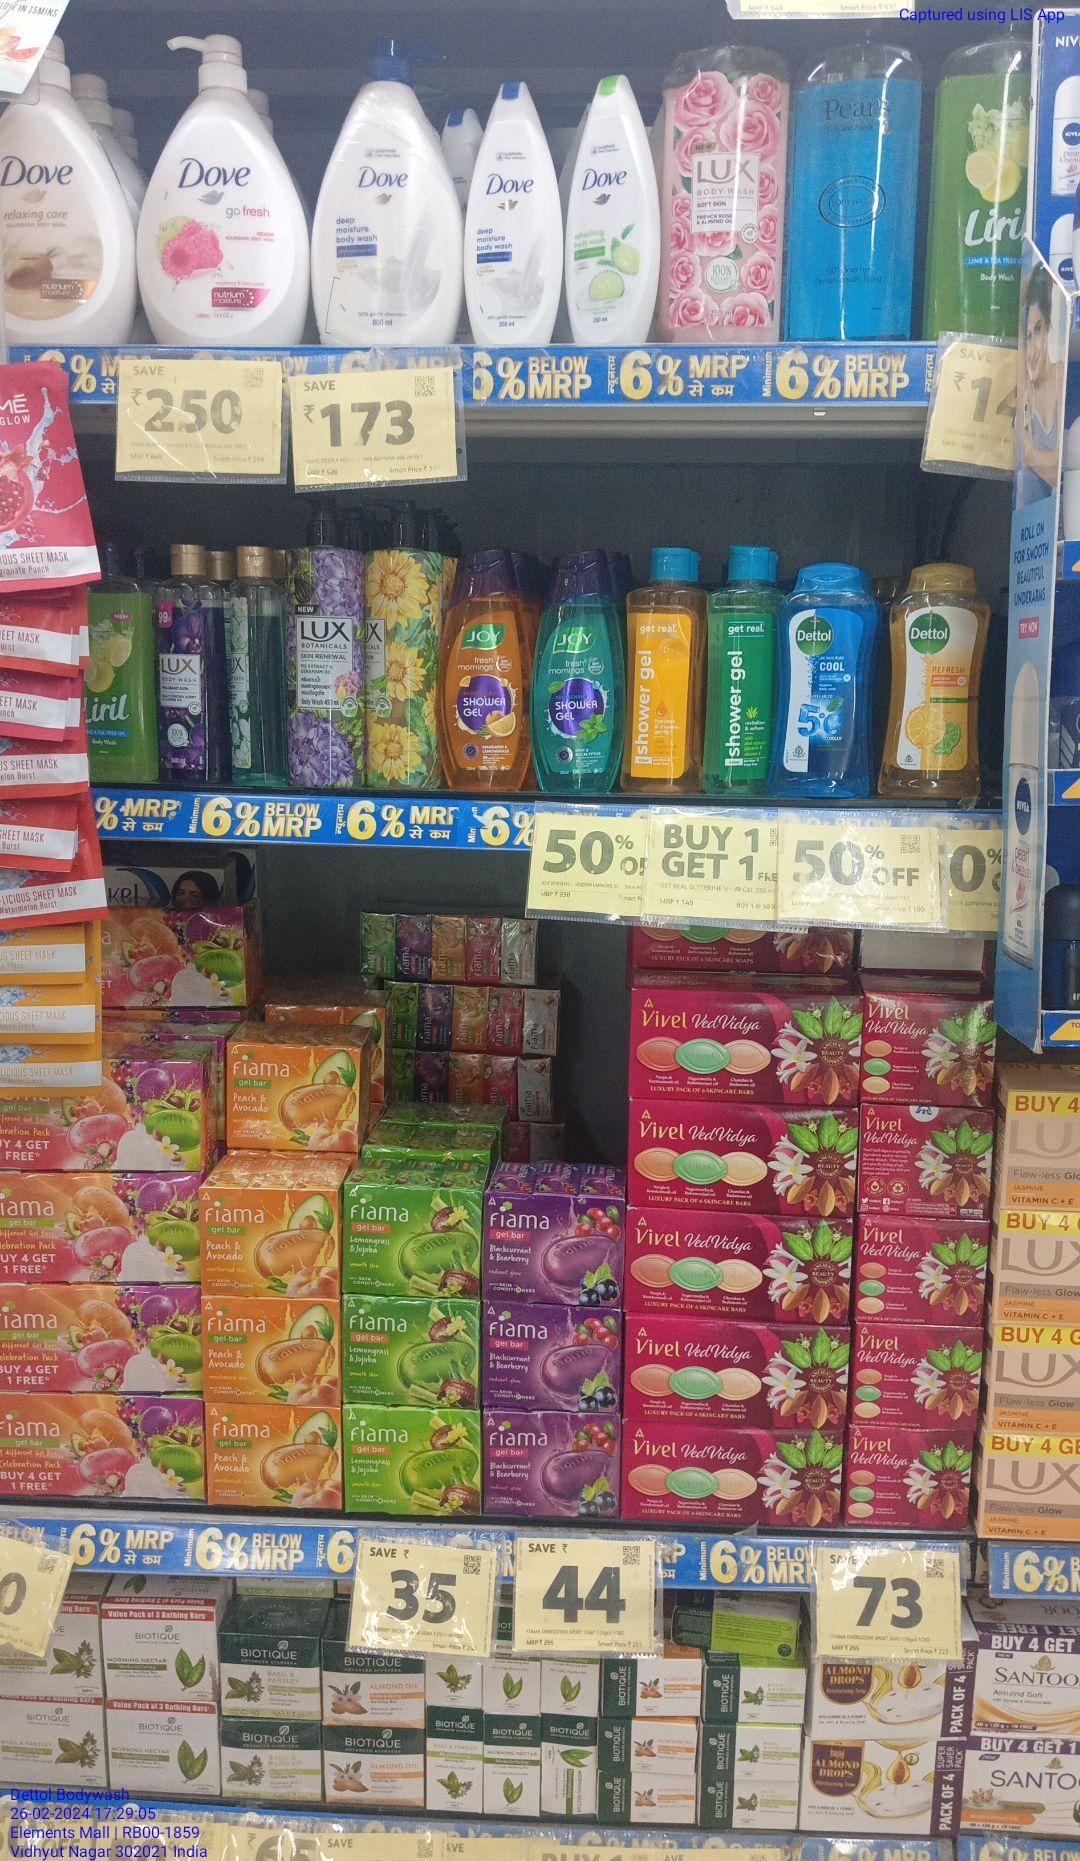Dettol_Bodywash_Cool: (775, 564, 870, 805)
Dettol_Bodywash_Refresh: (886, 563, 996, 799)
Dove_Deep_Moisture_Body_Wash_250ML: (467, 77, 557, 347)
Dove_Refreshing_Body_Wash_250ML: (572, 71, 653, 351)
Joy_Shower_Gel_Mandarin_and_Lemongrass_250ML: (444, 545, 527, 796)
Joy_Shower_Gel_Mint_and_Eucalyptus_250ML: (532, 545, 621, 797)
Liril_Lime_and_Tea_Tree_Oil_Body_Wash_250ML: (90, 535, 152, 780)
Lux_Body_Wash_Skin_Detox_Freesia_Scent_and_Alove_Vera_245ML: (154, 536, 222, 789)
